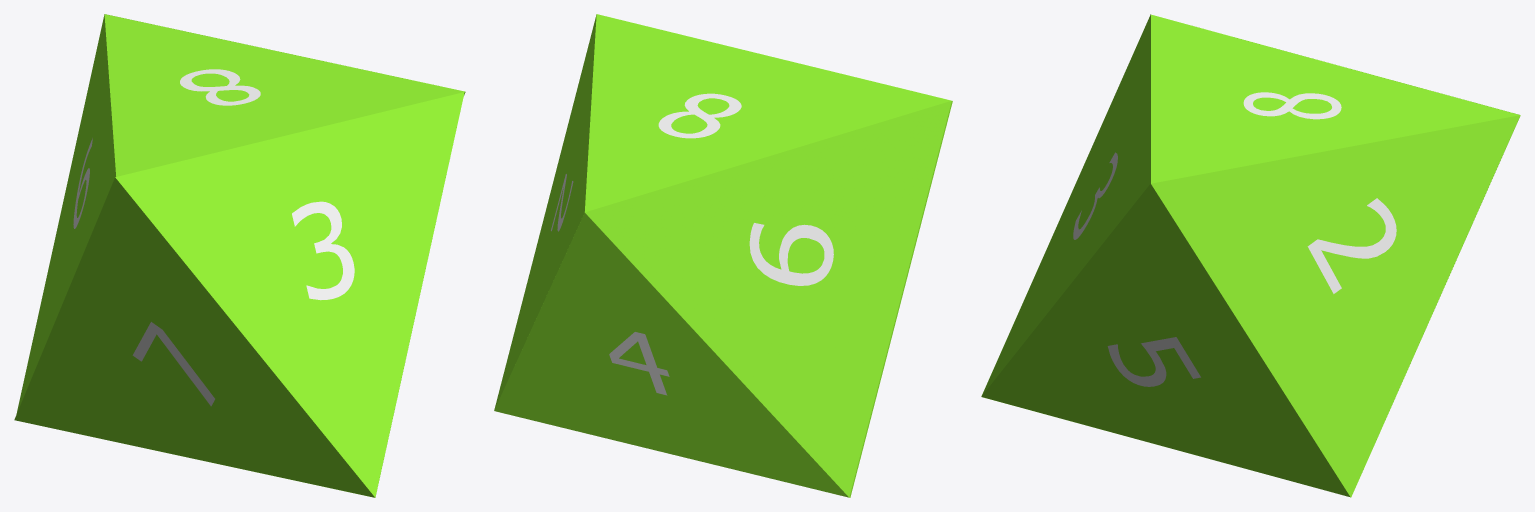
Rendered from dnd_dice_d8.dae.
3 views of the same model, side by side, from view 1: azimuth 30°, elevation 25°; view 2: azimuth 150°, elevation 25°; view 3: azimuth 270°, elevation 25° (orthographic). The views are drawn at different scales.
Parts seen in each view (by area): view 1: group_0, instance_1, instance_0, instance_2; view 2: group_0, instance_3, instance_0, instance_4; view 3: group_0, instance_7, instance_6, instance_0.
Boxes of the visible parts, x1,y1,x2,y2 form: group_0: (14,14,465,497); instance_1: (292,201,354,300); instance_0: (180,69,260,105); instance_2: (132,322,214,406); group_0: (494,14,952,497); instance_3: (749,223,833,285); instance_0: (658,93,741,138); instance_4: (609,332,669,395); group_0: (981,14,1520,497); instance_7: (1307,198,1396,293); instance_6: (1107,337,1200,386); instance_0: (1243,92,1341,119).
Bounding box in the file's own units: 0.9214 × 1.24 × 0.7956.
